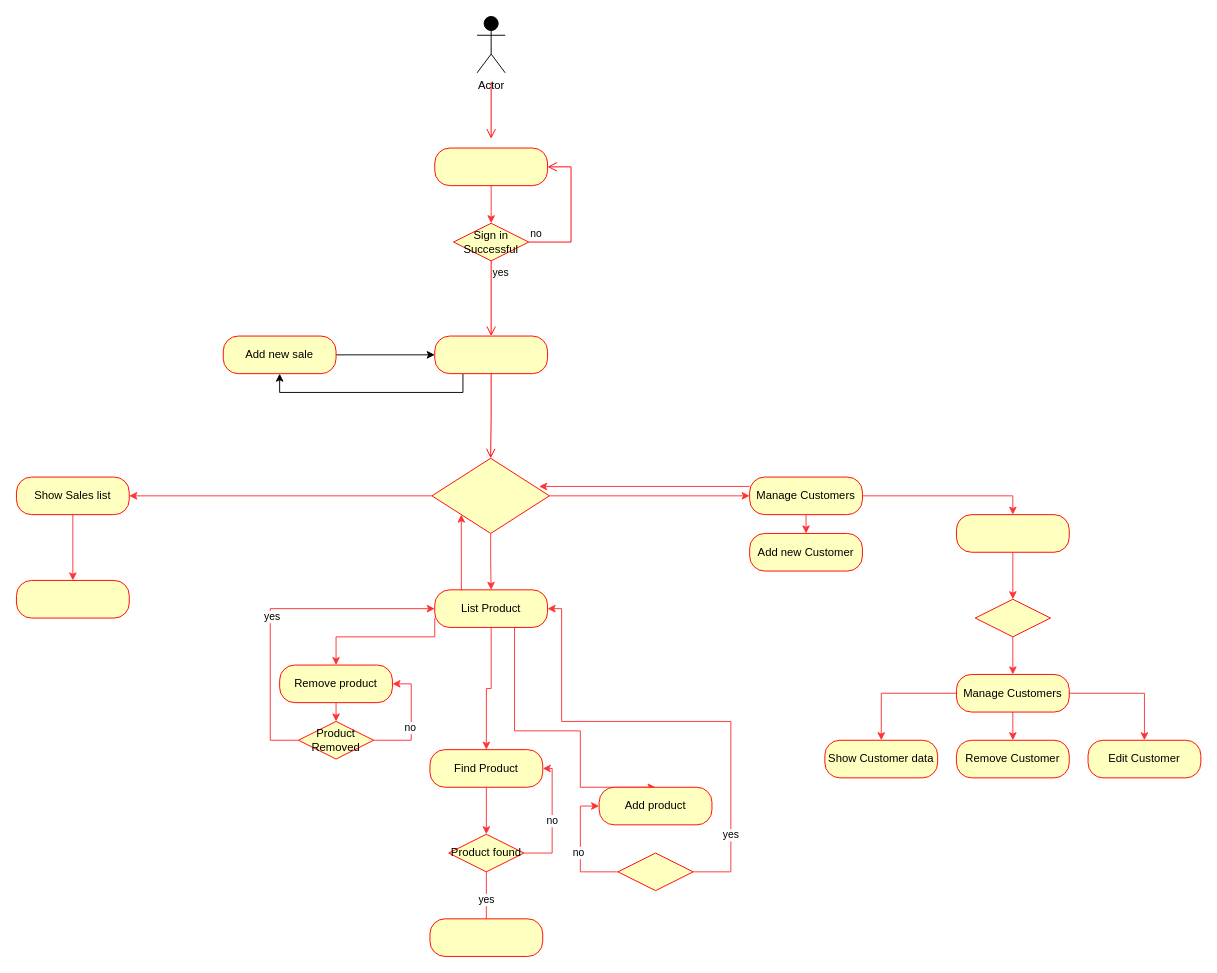
Image size: 1217x973. Some labels were removed from this diagram. The centre of each missing label's shape, as x and y in pixels:
"Click navbar Buttons" goes at pixel 490 495.
"Customer found" goes at pixel 1012 617.
"Display Homescreen" goes at pixel 491 354.
"Find Customer" goes at pixel 1012 533.
"Product Added" goes at pixel 655 871.
"Show product data" goes at pixel 486 937.
"Show Sales list data" goes at pixel 72 599.
"Sign in" goes at pixel 491 166.
